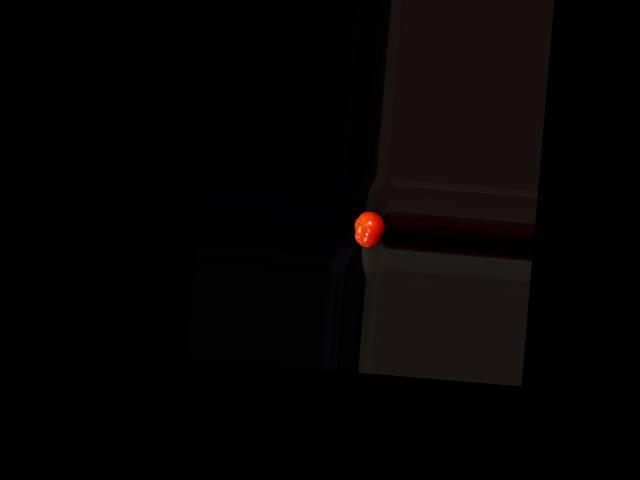tomato: (353, 209, 386, 248)
